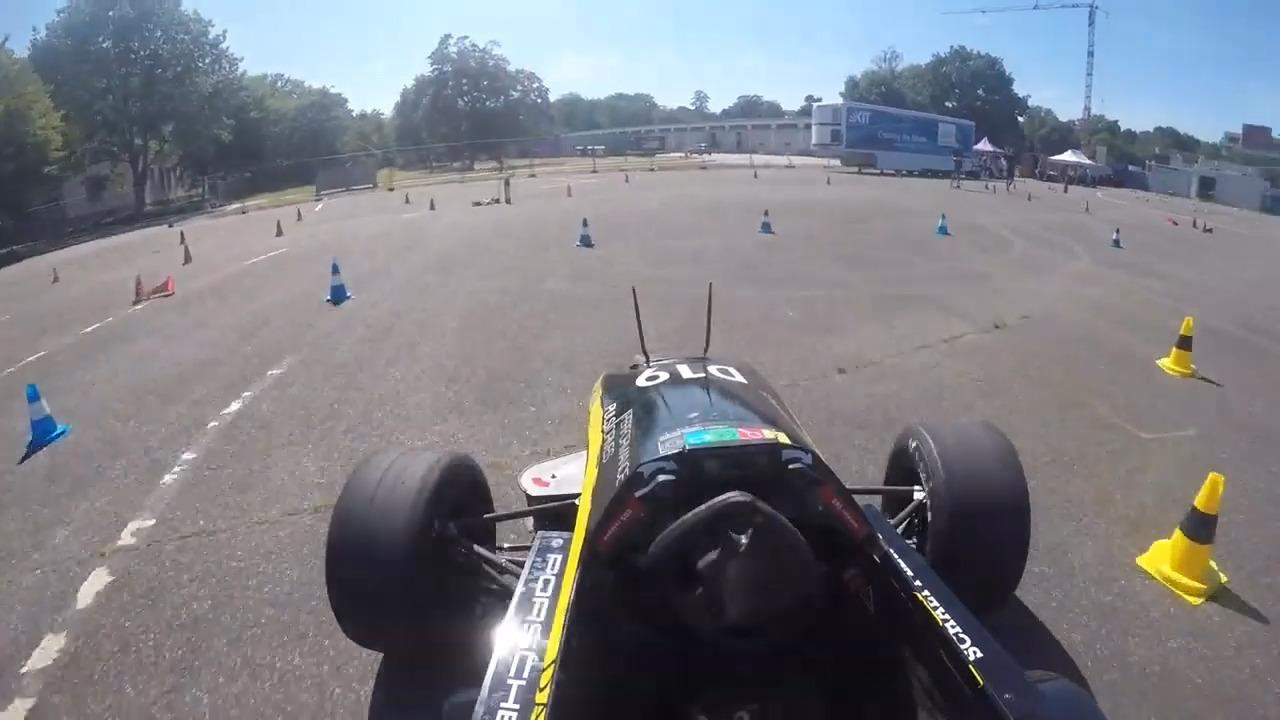blue_cone: (18, 381, 73, 454), (324, 258, 356, 306), (572, 215, 597, 251), (756, 207, 775, 235), (934, 210, 949, 237), (1109, 225, 1124, 249)
yellow_cone: (1133, 468, 1228, 606), (1155, 312, 1204, 381)
